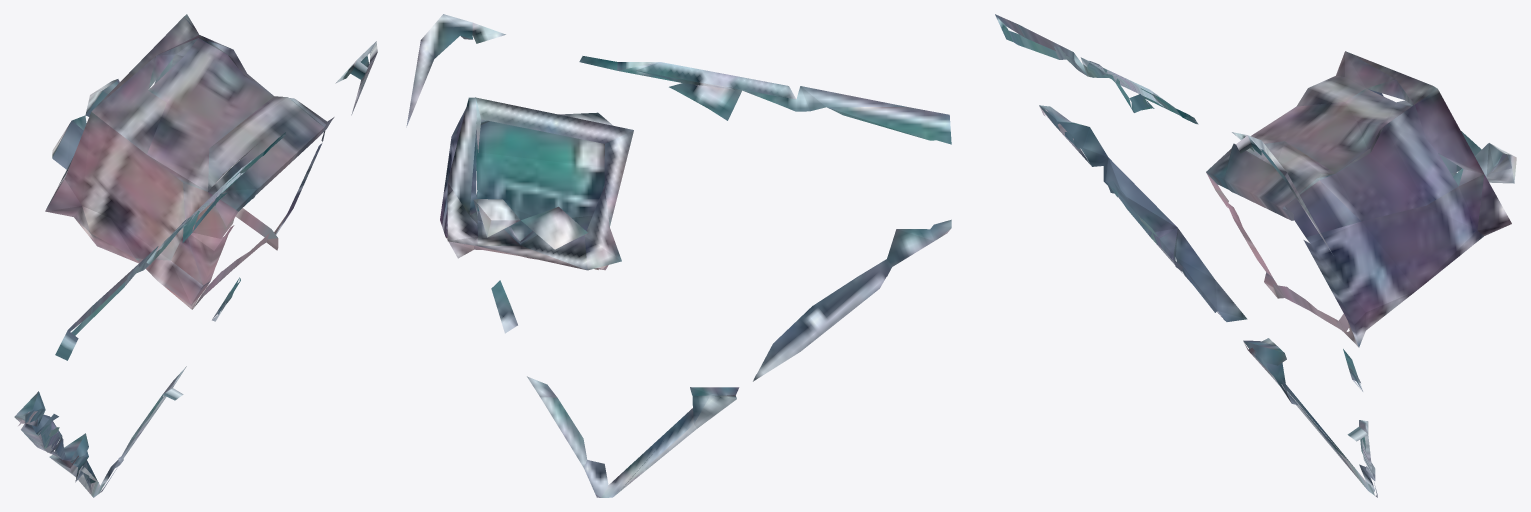
Rendered from UlRPVEYubm9kZWRhdGEucGxhbmV0b2lkPWVhcnRoLG5vZGVfZGF0YV9lcG9jaD05MTYscGF0aD0zMTQzNDE1MjYwNzM2MjcxNDQ3NixjYWNoZV92ZXJzaW9uPTY.glb.
3 renders of one model, left to right at view 1: azimuth 30°, elevation 25°; view 2: azimuth 150°, elevation 25°; view 3: azimuth 270°, elevation 25°, orthographic. The views are drawn at different scales.
Size of the model in its own units: 18.13 by 16.01 by 16.29.
Materials: 1 (1 with a texture image).
